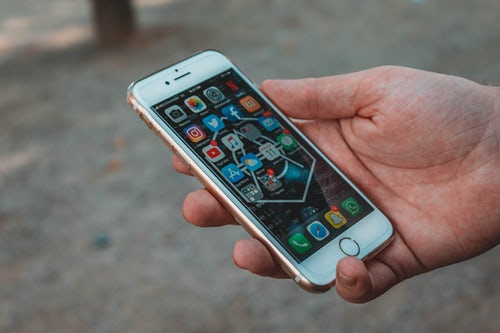phone: (121, 47, 395, 293)
